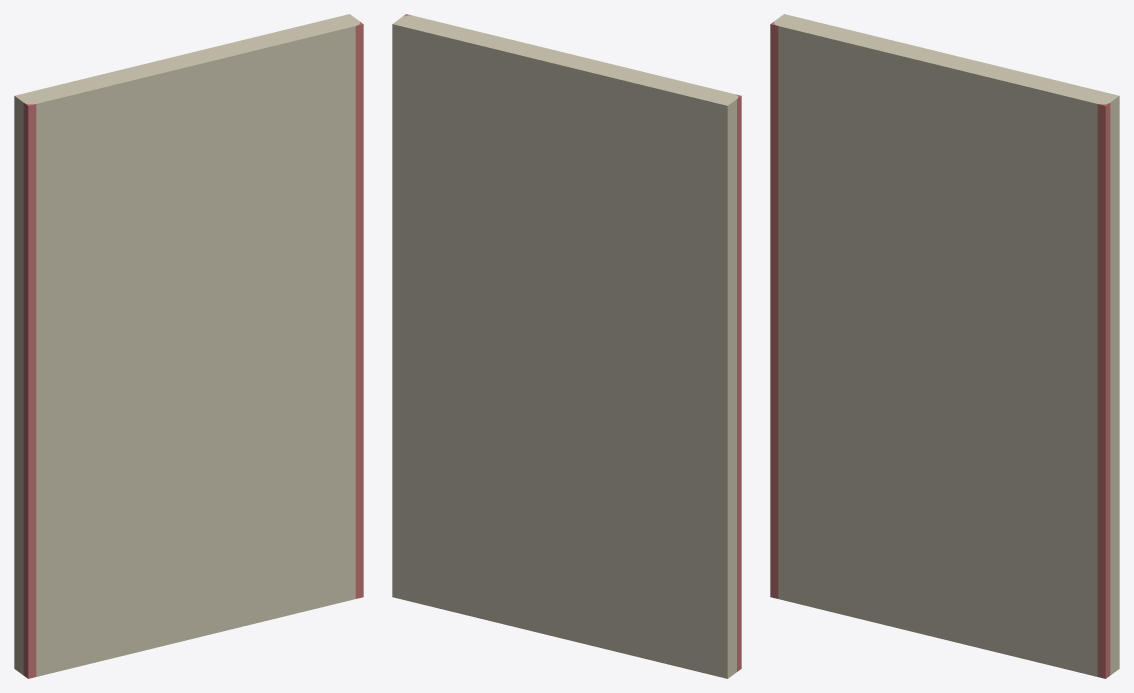
File: step_02.glb
3 views of the same model, side by side, from view 1: azimuth 30°, elevation 25°; view 2: azimuth 150°, elevation 25°; view 3: azimuth 330°, elevation 25° (orthographic).
Parts seen in each view (by area): view 1: part__back cushion foam, removed__back cushion foam; view 2: part__back cushion foam, removed__back cushion foam; view 3: part__back cushion foam, removed__back cushion foam.
Boxes of the visible parts, x1,y1,x2,y2 form: part__back cushion foam: (14, 14, 359, 676); removed__back cushion foam: (23, 21, 363, 678); part__back cushion foam: (392, 15, 737, 678); removed__back cushion foam: (403, 14, 741, 671); part__back cushion foam: (774, 14, 1119, 676); removed__back cushion foam: (770, 21, 1110, 678).
Size of the model in its own units: 420 by 686 by 30.
